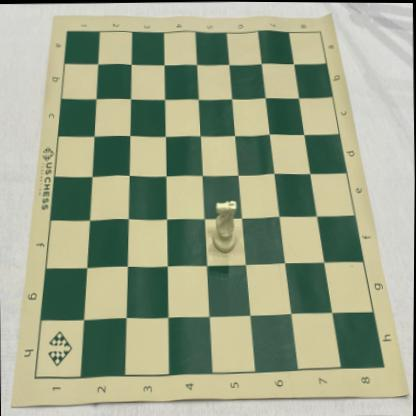white-knight: (212, 199, 238, 253)
